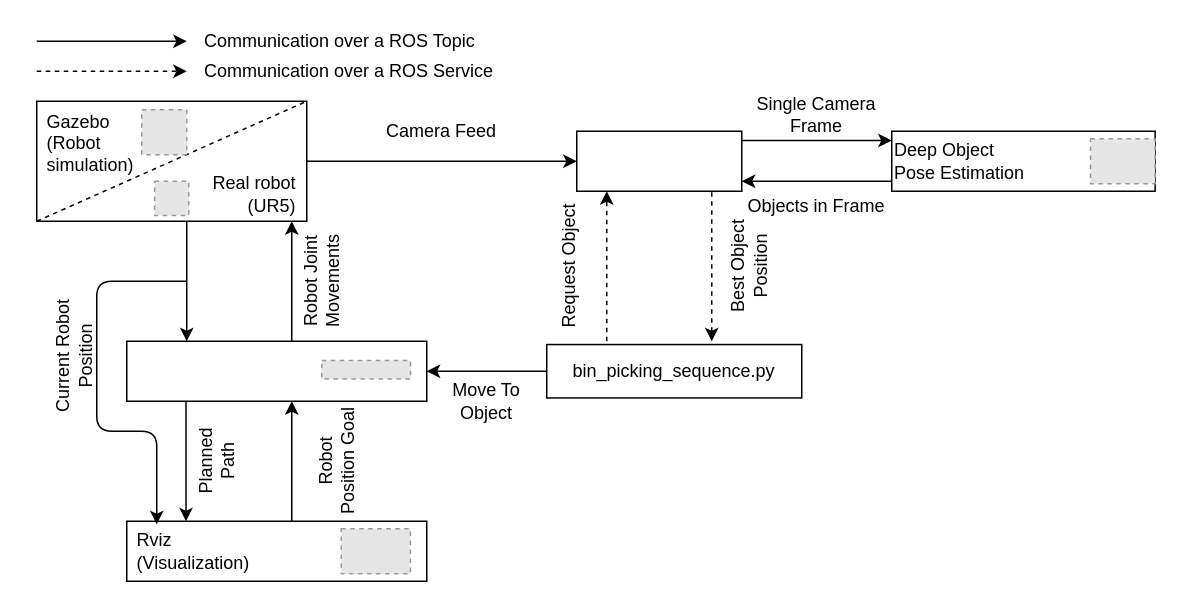
This 1182x608 diagram has some shape labels left out. Grey dashed boxes stand in for pictures. Each missing label, with the box of its shape:
find_object.py: (575, 130, 742, 191)
MoveIt (Movement planning): (125, 340, 427, 401)
